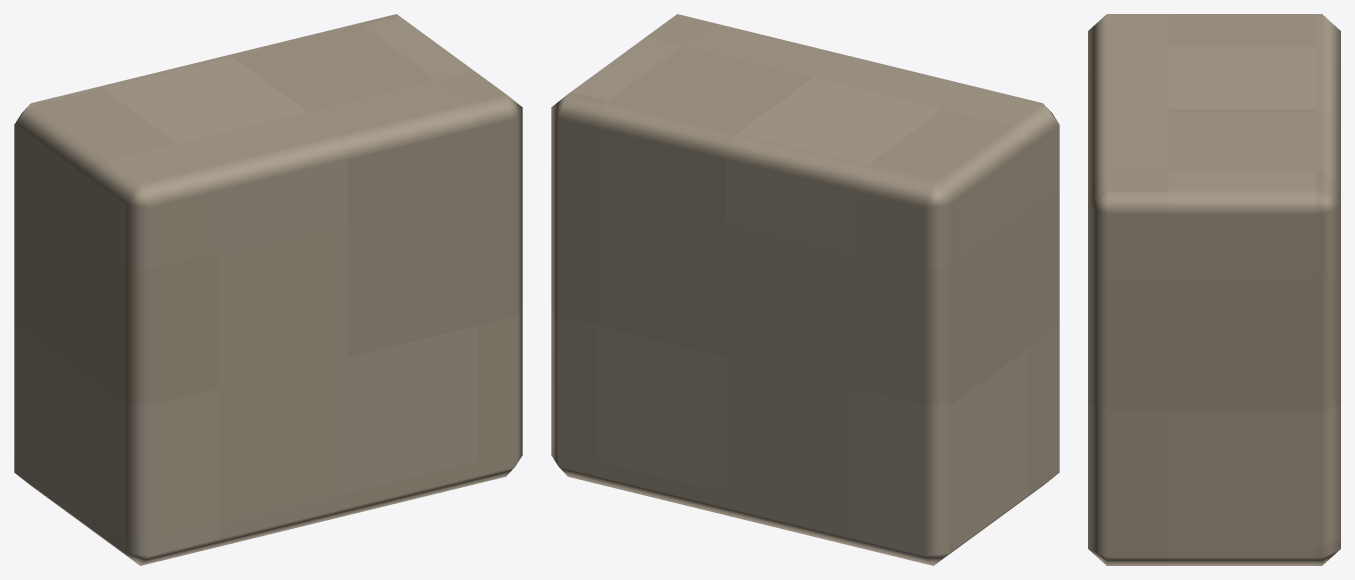
Rendered from Dial-Right.glb.
The picture shows the model from 3 angles, left to right: view 1: azimuth 30°, elevation 25°; view 2: azimuth 150°, elevation 25°; view 3: azimuth 270°, elevation 25°; orthographic projection.
Parts seen in each view (by area): view 1: Dial-Right; view 2: Dial-Right; view 3: Dial-Right.
Part boxes in pixels (bbox=[...]): Dial-Right: bbox=[14, 14, 522, 565]; Dial-Right: bbox=[551, 14, 1059, 565]; Dial-Right: bbox=[1088, 14, 1340, 565].
Bounding box in the file's own units: 0.12 × 0.11 × 0.067.
1 material, 1 textured.
